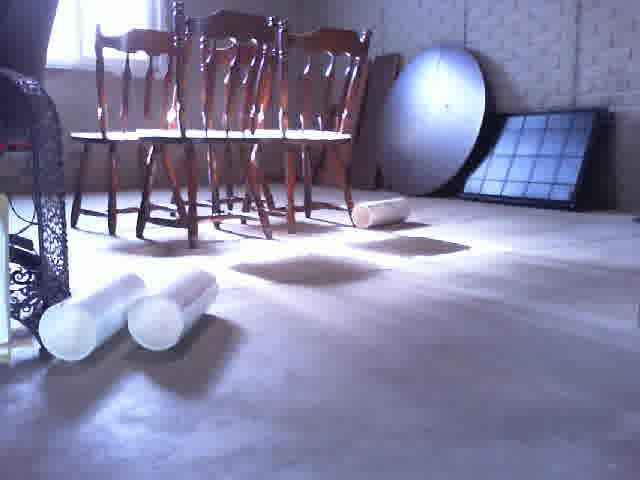coral: (35, 265, 144, 365), (127, 265, 220, 355), (350, 194, 414, 230)
